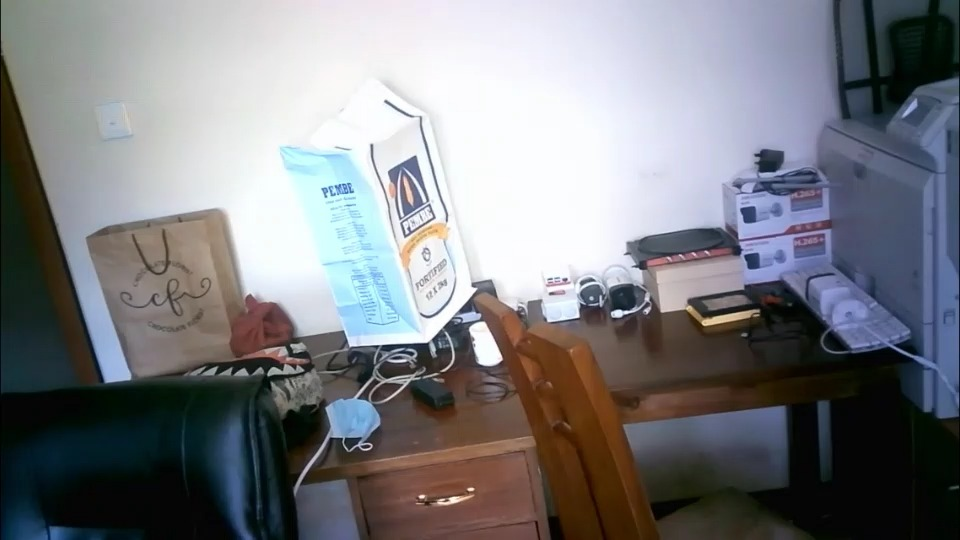wheat_flour_blue_label: (284, 86, 474, 341)
